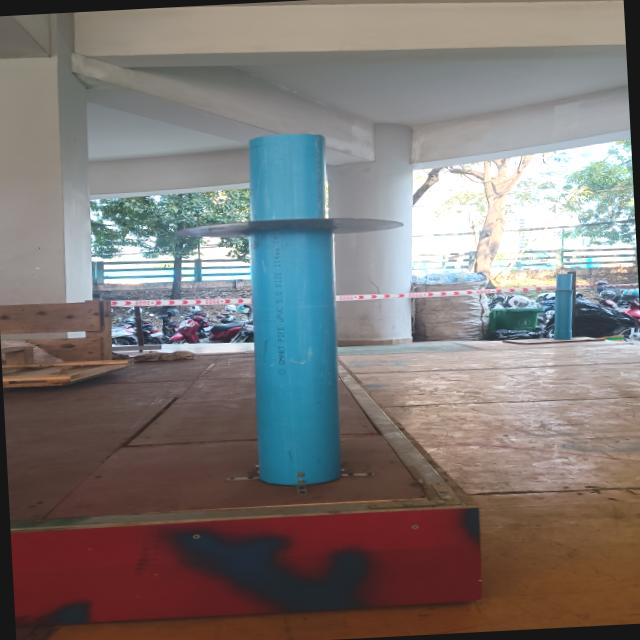pole: (173, 114, 418, 370)
